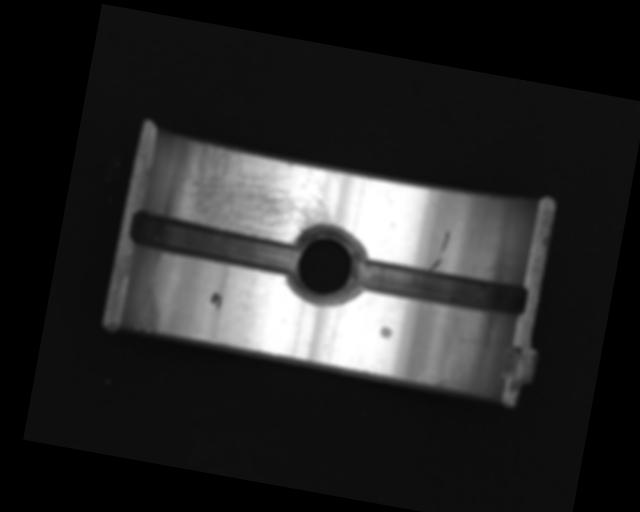blot: (209, 291, 223, 310)
bruise: (379, 325, 393, 340)
gap: (126, 210, 302, 277), (352, 255, 530, 321)
hole: (283, 218, 371, 311)
nick: (429, 228, 451, 275)
scratch: (175, 140, 344, 252)
